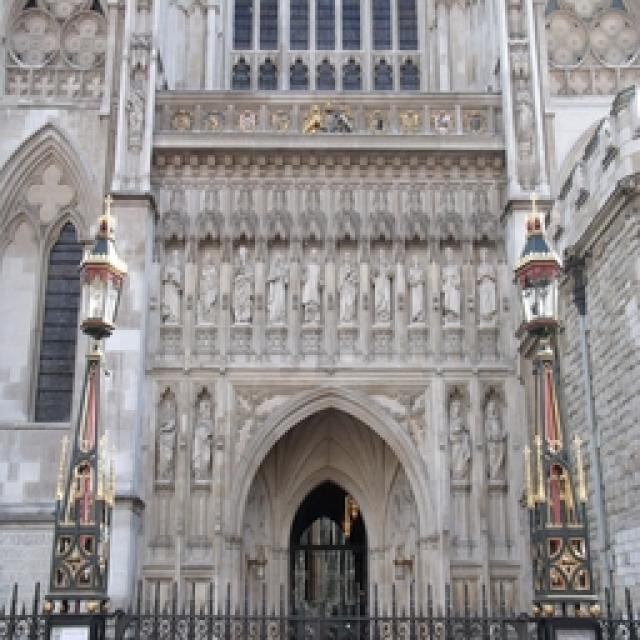Abbey: (88, 5, 640, 640)
